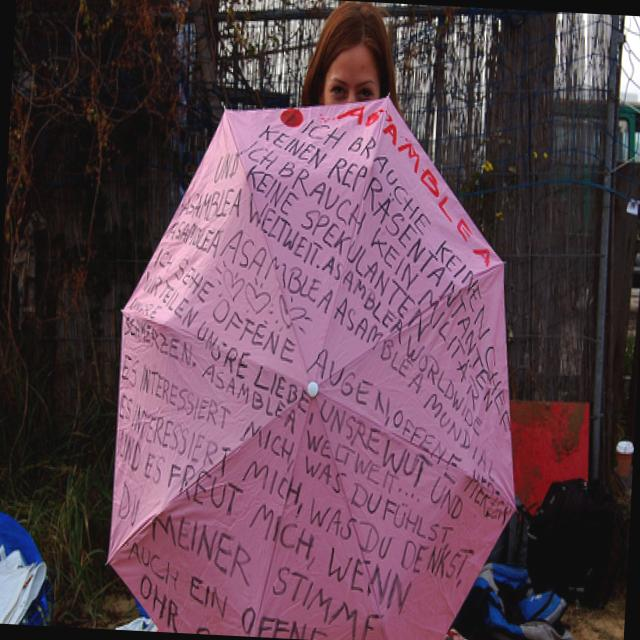Vehicle: (610, 97, 640, 238)
